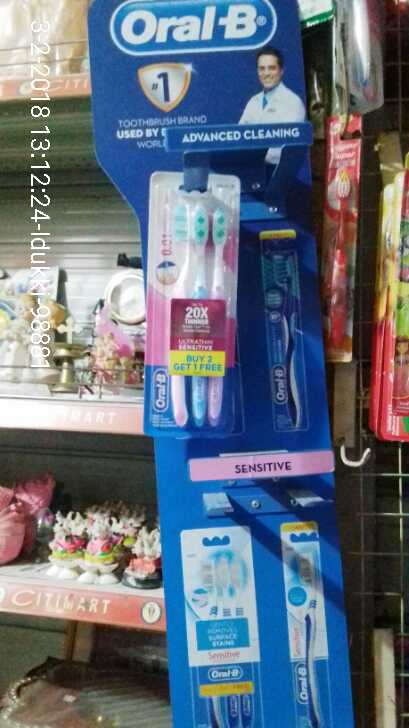oralb: (137, 165, 234, 438)
